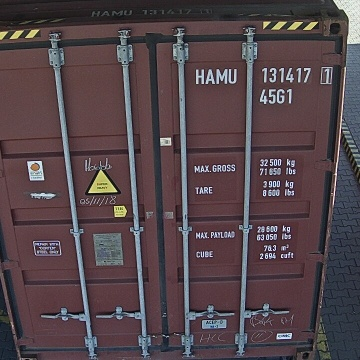serial_id: (195, 67, 332, 83)
